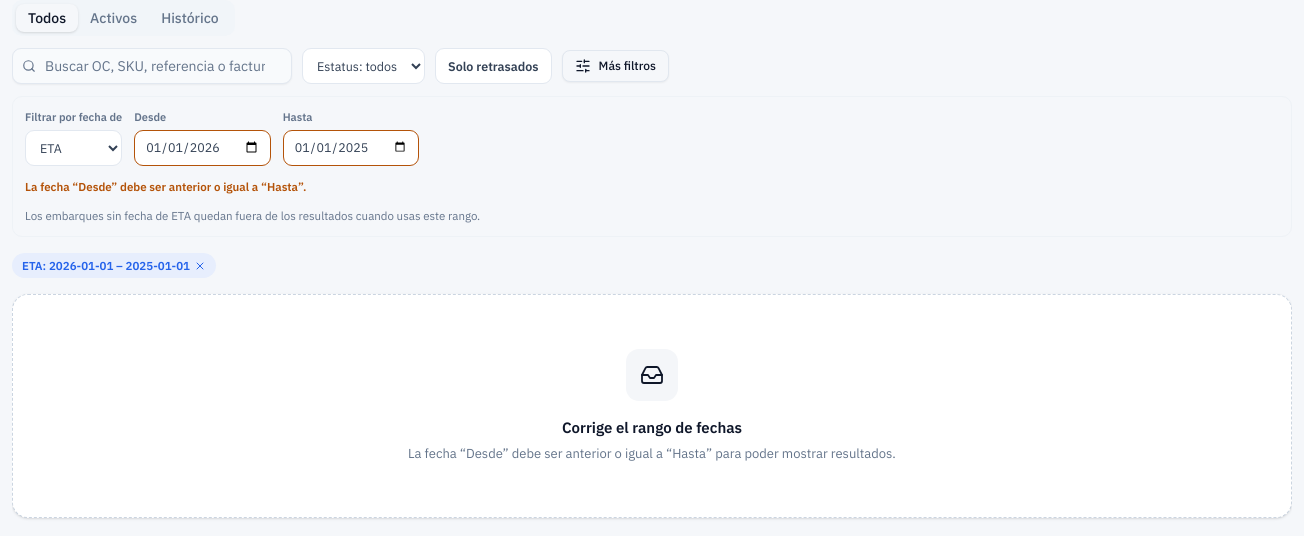
Test: EmbarquesView › fix M8: guard de rango de fecha invertido › corregir el rango (Hasta >= Desde) vuelve a disparar el fetch con la URL corregida
Check: the message "La fecha “Desde” debe ser anterior o igual a “Hasta”." is shown, box [25,178,306,194]
Type "2026-06-01" into the date field labelled "Hasta" at (351, 148), box [283,130,419,166]
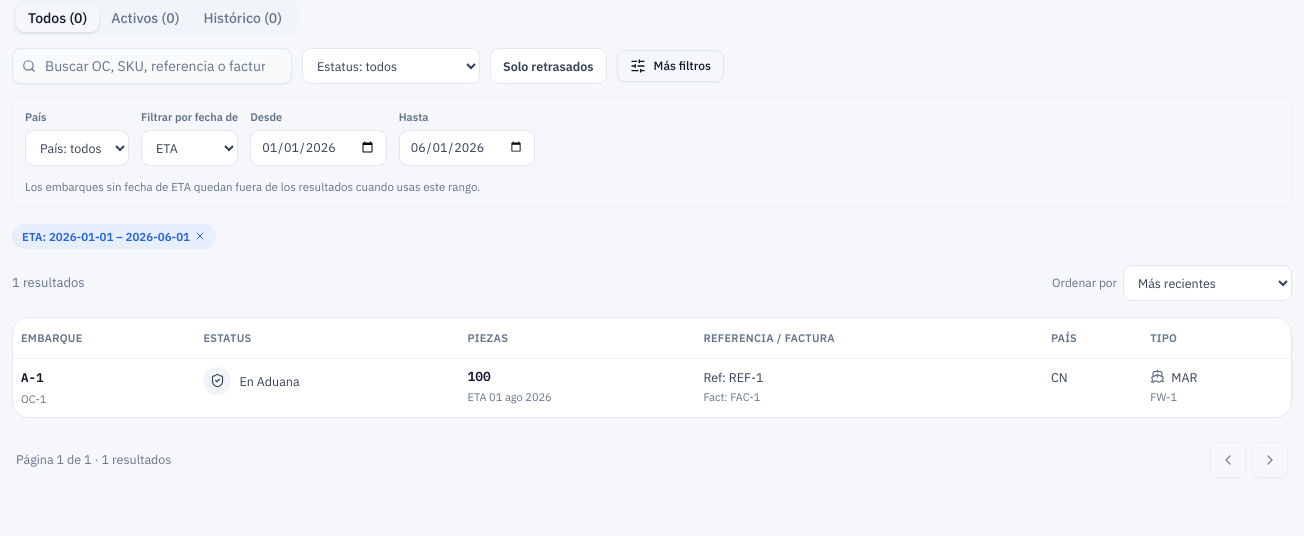
Check: the message "La fecha “Desde” debe ser anterior o igual a “Hasta”." is gone
